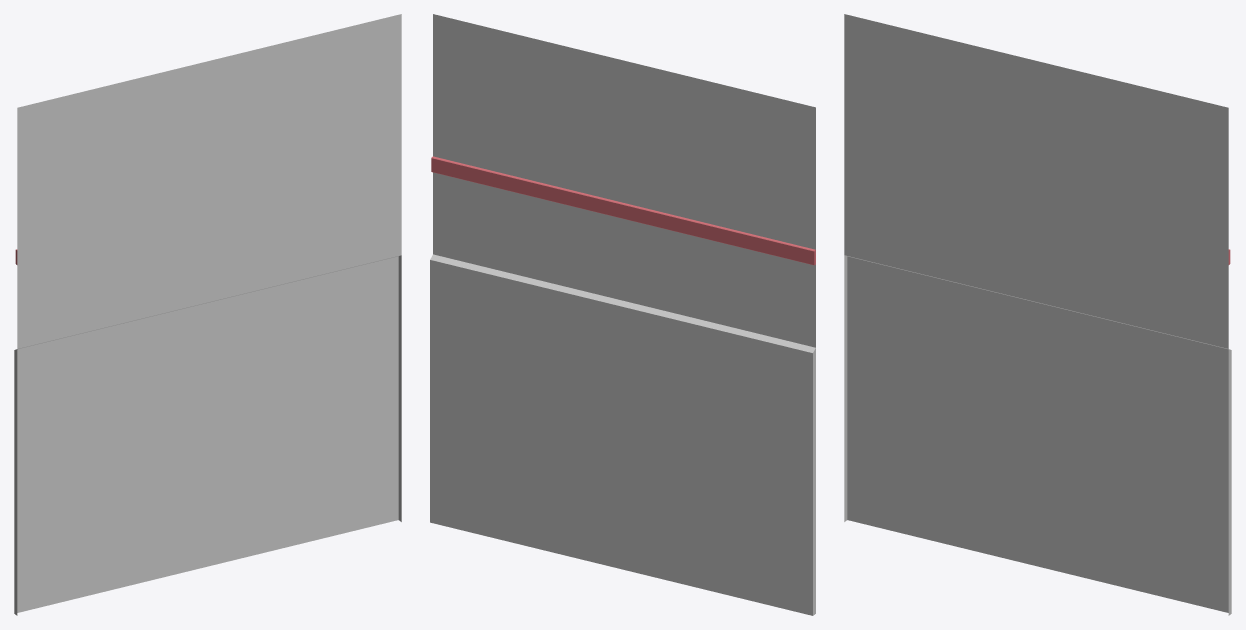
File: Hallway_Wall.003.fbx
3 views of the same model, side by side, from view 1: azimuth 30°, elevation 25°; view 2: azimuth 150°, elevation 25°; view 3: azimuth 330°, elevation 25° (orthographic).
Parts seen in each view (by area): view 1: Hallway_Wall.003; view 2: Hallway_Wall.003; view 3: Hallway_Wall.003.
Part boxes in pixels (bbox=[...]): Hallway_Wall.003: bbox=[14, 14, 401, 615]; Hallway_Wall.003: bbox=[430, 14, 815, 615]; Hallway_Wall.003: bbox=[844, 14, 1231, 615].
Bounding box in the file's own units: 217 × 275 × 2.92.
